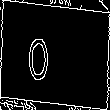O_N: (44, 28, 66, 82)
